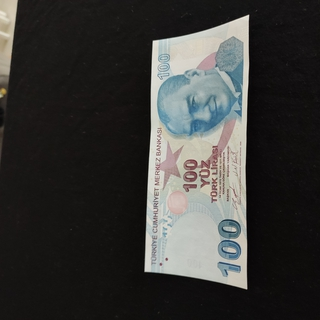100TLFront: (144, 14, 250, 289)
